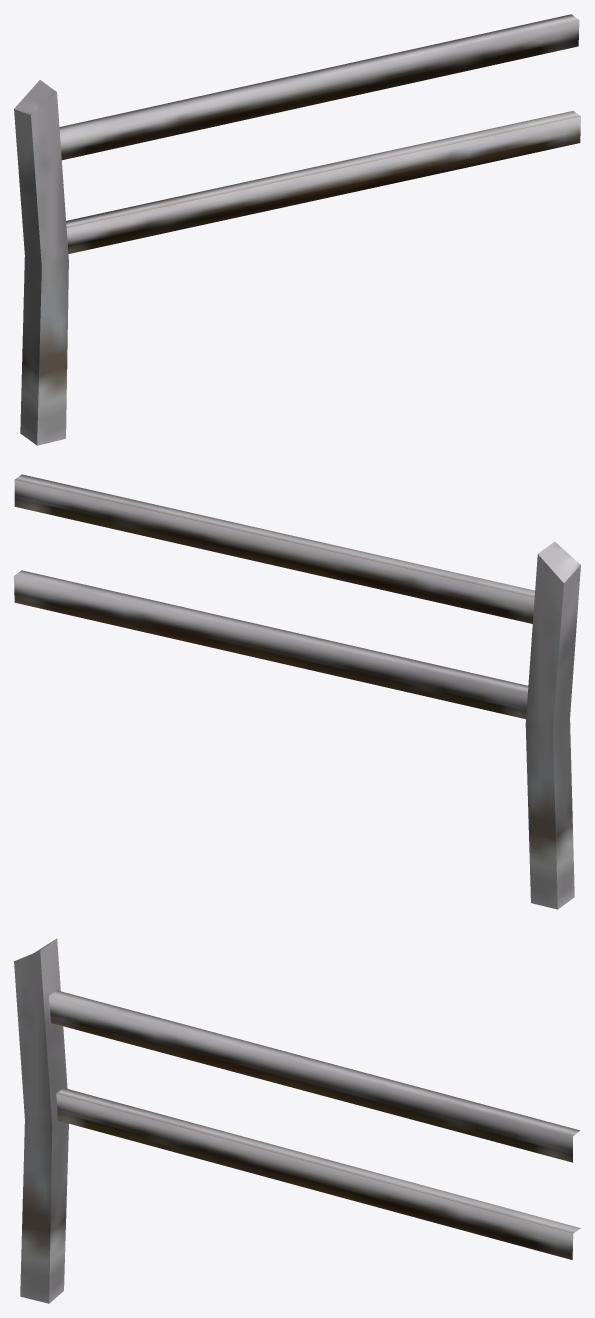
Rendered from general_obj_fence03.glb.
3 views of the same model, one above another, from view 1: azimuth 30°, elevation 25°; view 2: azimuth 150°, elevation 25°; view 3: azimuth 330°, elevation 25° (orthographic).
Parts seen in each view (by area): view 1: Sphere01; view 2: Sphere01; view 3: Sphere01.
Boxes of the visible parts, x1=… form: Sphere01: x1=14, y1=14, x2=580, y2=445; Sphere01: x1=14, y1=474, x2=580, y2=909; Sphere01: x1=14, y1=938, x2=580, y2=1303.
Size of the model in its own units: 3.77 by 2.27 by 0.2005.
1 material, 1 textured.
